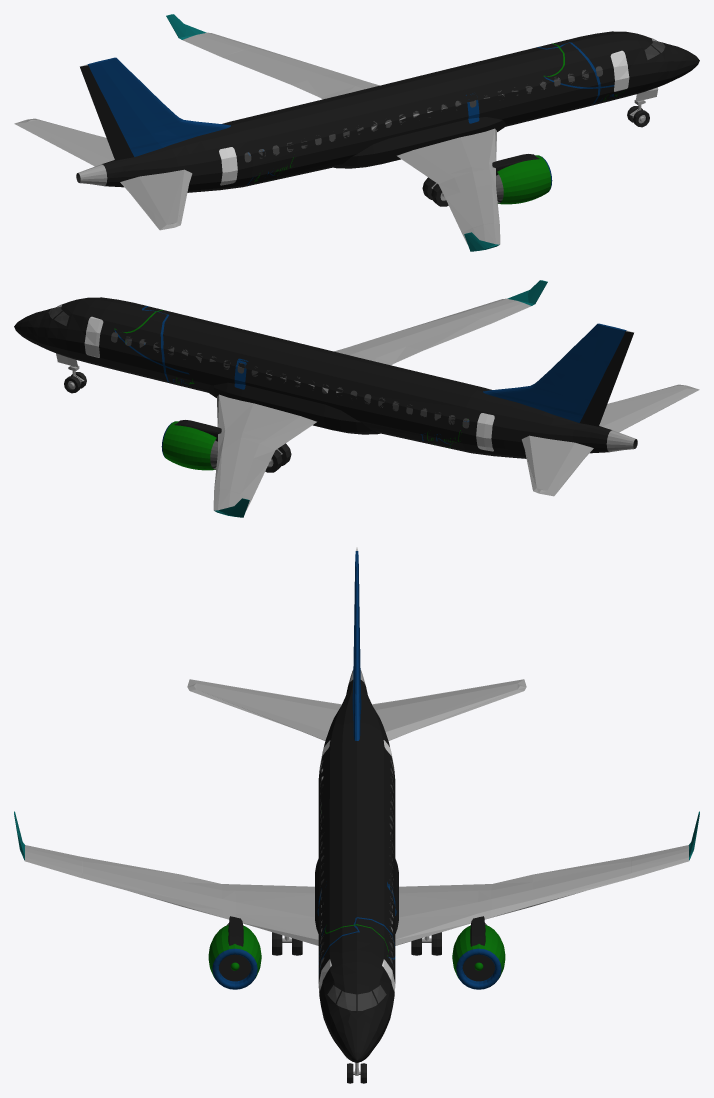
Rendered from legacy_500_model.obj.
3 renders of one model, top to bottom at view 1: azimuth 30°, elevation 25°; view 2: azimuth 150°, elevation 25°; view 3: azimuth 270°, elevation 25°, orthographic. The views are drawn at different scales.
Parts seen in each view (by area): view 1: Mesh38_Group7_Fuselage1_Group1_Model, Mesh37_Component_12_1_Group1_Model, Mesh33_Component_2_2_Wing_1_2_Group1_Model, Mesh22_Component_2_1_Wing_1_1_Group1_Model, Mesh12_rear_wind_1_1_Group1_Model, Mesh35_rear_wind_1_2_Group1_Model, Mesh34_Component_13_2_Wing_1_2_Group1_Model; view 2: Mesh38_Group7_Fuselage1_Group1_Model, Mesh37_Component_12_1_Group1_Model, Mesh22_Component_2_1_Wing_1_1_Group1_Model, Mesh33_Component_2_2_Wing_1_2_Group1_Model, Mesh35_rear_wind_1_2_Group1_Model, Mesh12_rear_wind_1_1_Group1_Model, Mesh23_Component_13_1_Wing_1_1_Group1_Model; view 3: Mesh38_Group7_Fuselage1_Group1_Model, Mesh22_Component_2_1_Wing_1_1_Group1_Model, Mesh33_Component_2_2_Wing_1_2_Group1_Model, Mesh35_rear_wind_1_2_Group1_Model, Mesh12_rear_wind_1_1_Group1_Model, Mesh23_Component_13_1_Wing_1_1_Group1_Model, Mesh34_Component_13_2_Wing_1_2_Group1_Model, Mesh37_Component_12_1_Group1_Model.
Part boxes in pixels (x1=…): Mesh38_Group7_Fuselage1_Group1_Model: x1=76, y1=31, x2=699, y2=192; Mesh37_Component_12_1_Group1_Model: x1=80, y1=57, x2=230, y2=160; Mesh33_Component_2_2_Wing_1_2_Group1_Model: x1=397, y1=128, x2=500, y2=251; Mesh22_Component_2_1_Wing_1_1_Group1_Model: x1=166, y1=14, x2=445, y2=129; Mesh12_rear_wind_1_1_Group1_Model: x1=120, y1=169, x2=192, y2=230; Mesh35_rear_wind_1_2_Group1_Model: x1=14, y1=118, x2=114, y2=166; Mesh34_Component_13_2_Wing_1_2_Group1_Model: x1=496, y1=155, x2=552, y2=204; Mesh38_Group7_Fuselage1_Group1_Model: x1=14, y1=297, x2=637, y2=458; Mesh37_Component_12_1_Group1_Model: x1=483, y1=323, x2=633, y2=426; Mesh22_Component_2_1_Wing_1_1_Group1_Model: x1=213, y1=394, x2=316, y2=517; Mesh33_Component_2_2_Wing_1_2_Group1_Model: x1=269, y1=280, x2=547, y2=392; Mesh35_rear_wind_1_2_Group1_Model: x1=521, y1=435, x2=593, y2=496; Mesh12_rear_wind_1_1_Group1_Model: x1=599, y1=384, x2=699, y2=432; Mesh23_Component_13_1_Wing_1_1_Group1_Model: x1=161, y1=421, x2=217, y2=470; Mesh38_Group7_Fuselage1_Group1_Model: x1=315, y1=670, x2=398, y2=1062; Mesh22_Component_2_1_Wing_1_1_Group1_Model: x1=391, y1=811, x2=699, y2=945; Mesh33_Component_2_2_Wing_1_2_Group1_Model: x1=14, y1=811, x2=321, y2=945; Mesh35_rear_wind_1_2_Group1_Model: x1=372, y1=679, x2=526, y2=740; Mesh12_rear_wind_1_1_Group1_Model: x1=187, y1=679, x2=341, y2=740; Mesh23_Component_13_1_Wing_1_1_Group1_Model: x1=452, y1=923, x2=505, y2=989; Mesh34_Component_13_2_Wing_1_2_Group1_Model: x1=208, y1=923, x2=261, y2=989; Mesh37_Component_12_1_Group1_Model: x1=352, y1=547, x2=361, y2=740.
Size of the model in its own units: 16.1 by 4.81 by 13.4.
